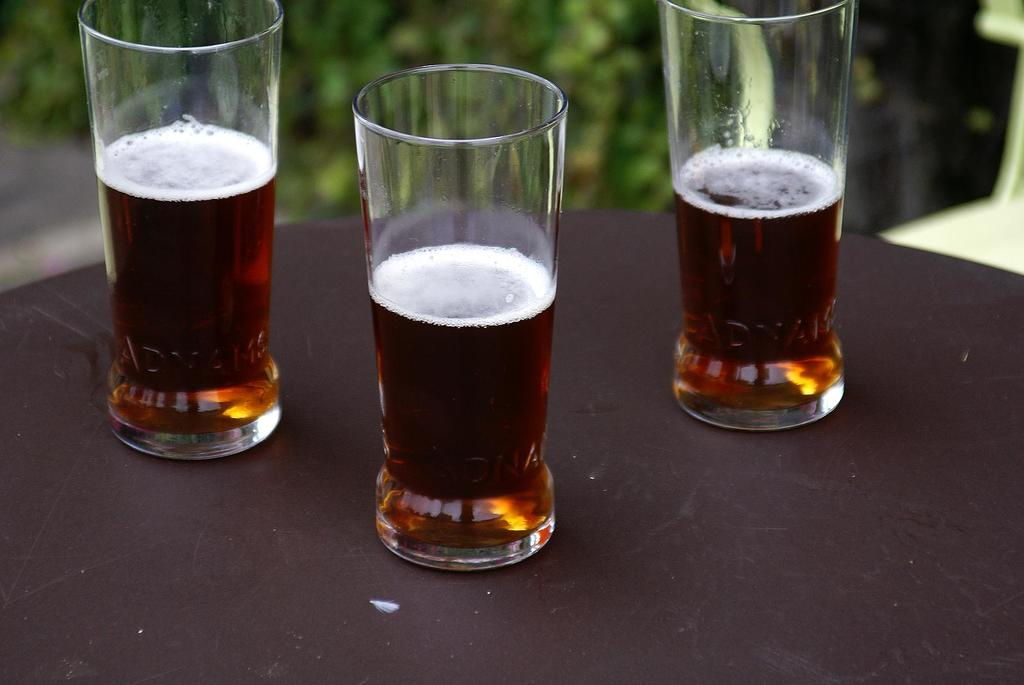Beer: (351, 62, 568, 570), (75, 0, 284, 463), (658, 0, 858, 432)
